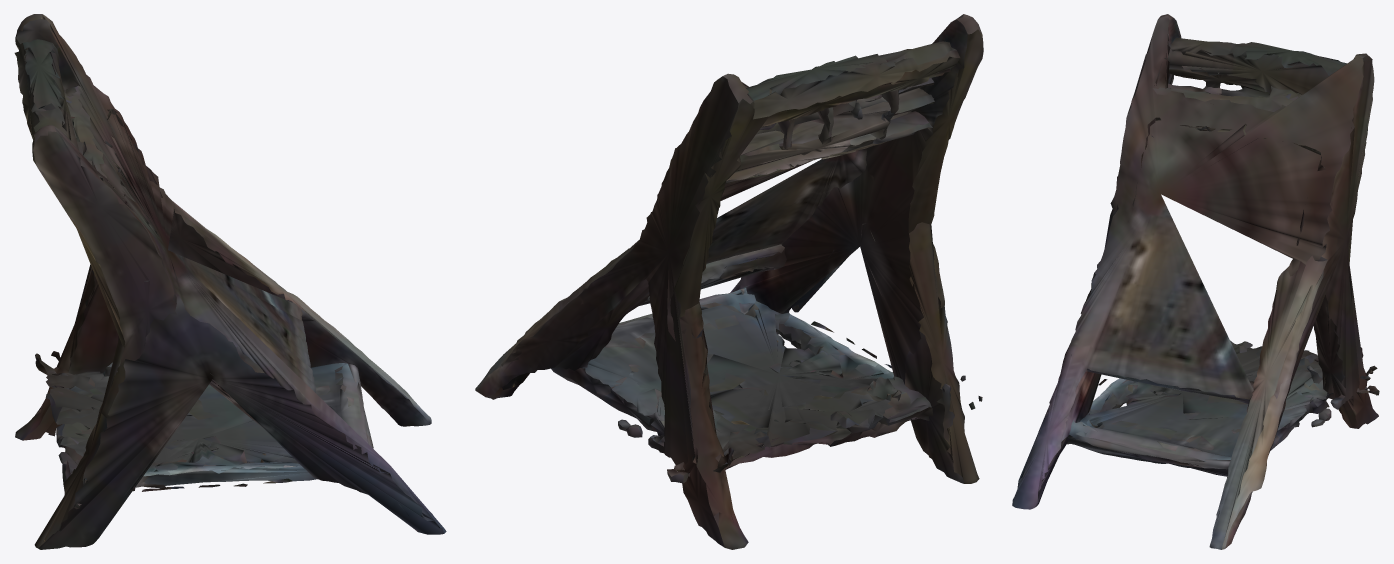
The picture shows the model from 3 angles, left to right: view 1: azimuth 30°, elevation 25°; view 2: azimuth 150°, elevation 25°; view 3: azimuth 270°, elevation 25°; orthographic projection. The views are drawn at different scales.
Parts seen in each view (by area): view 1: world; view 2: world; view 3: world.
Part boxes in pixels (x1,y1,x2,y2): world: [14, 14, 446, 549]; world: [475, 14, 983, 549]; world: [1012, 14, 1379, 549].
Size of the model in its own units: 0.4397 by 0.4141 by 0.3762.
Materials: 1 (1 with a texture image).
